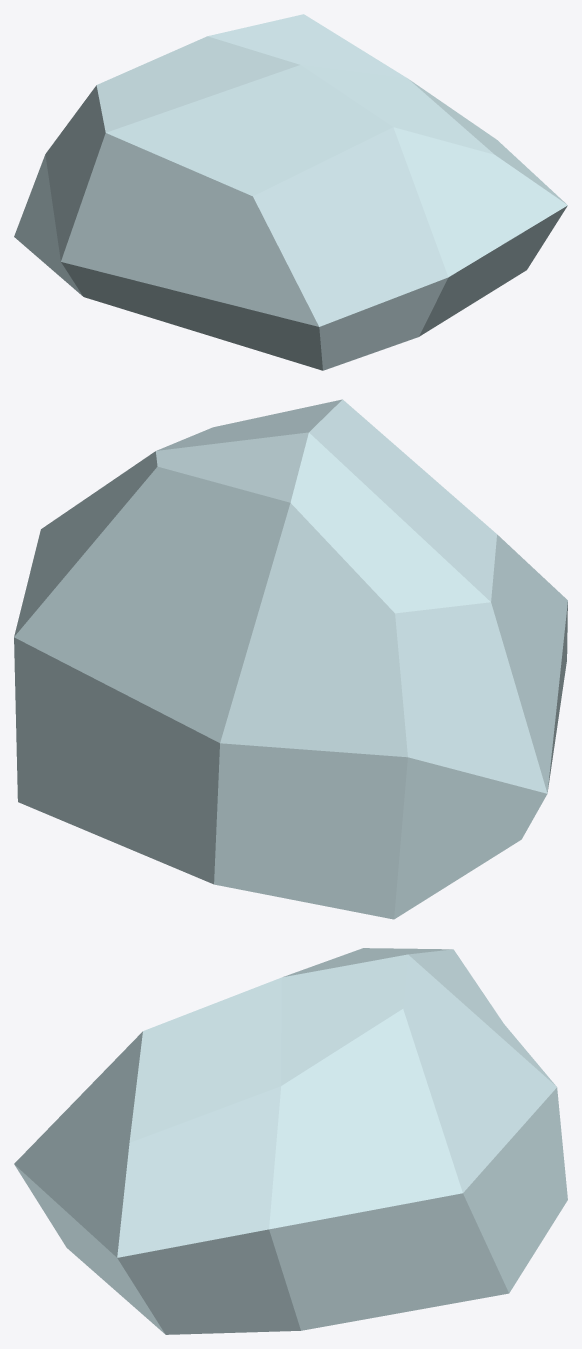
Rendered from Stone_3_Big.fbx.
3 renders of one model, top to bottom at view 1: azimuth 30°, elevation 25°; view 2: azimuth 150°, elevation 25°; view 3: azimuth 270°, elevation 25°, orthographic. The views are drawn at different scales.
Parts seen in each view (by area): view 1: Stone_3_Big; view 2: Stone_3_Big; view 3: Stone_3_Big.
Boxes of the visible parts, box(x1,y1,x2,y2) form: Stone_3_Big: box(14, 14, 567, 370); Stone_3_Big: box(14, 399, 567, 919); Stone_3_Big: box(14, 948, 567, 1334).
Size of the model in its own units: 0.3877 by 0.197 by 0.3889.
